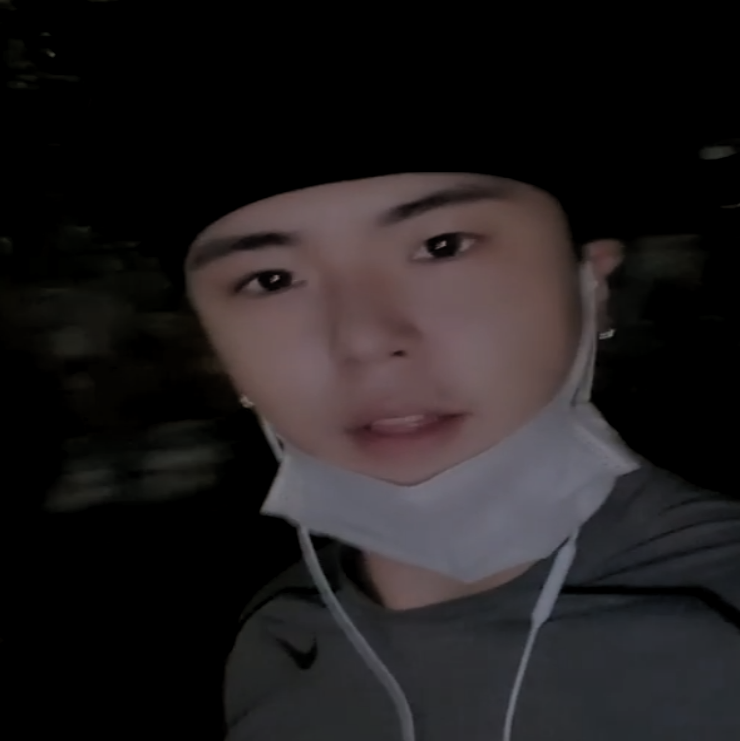mask_weared_incorrect: (179, 98, 629, 580)
